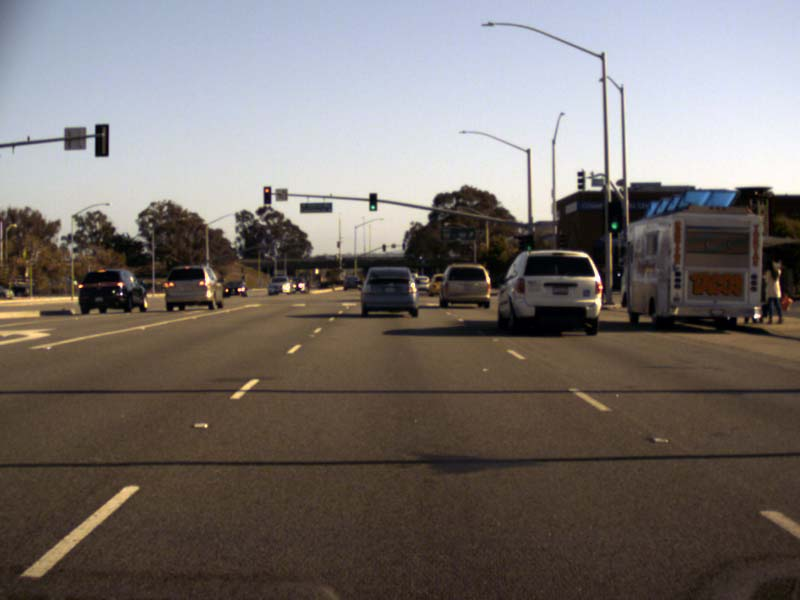Green: (607, 202, 621, 230), (369, 193, 377, 211)
Red: (263, 186, 271, 204)
